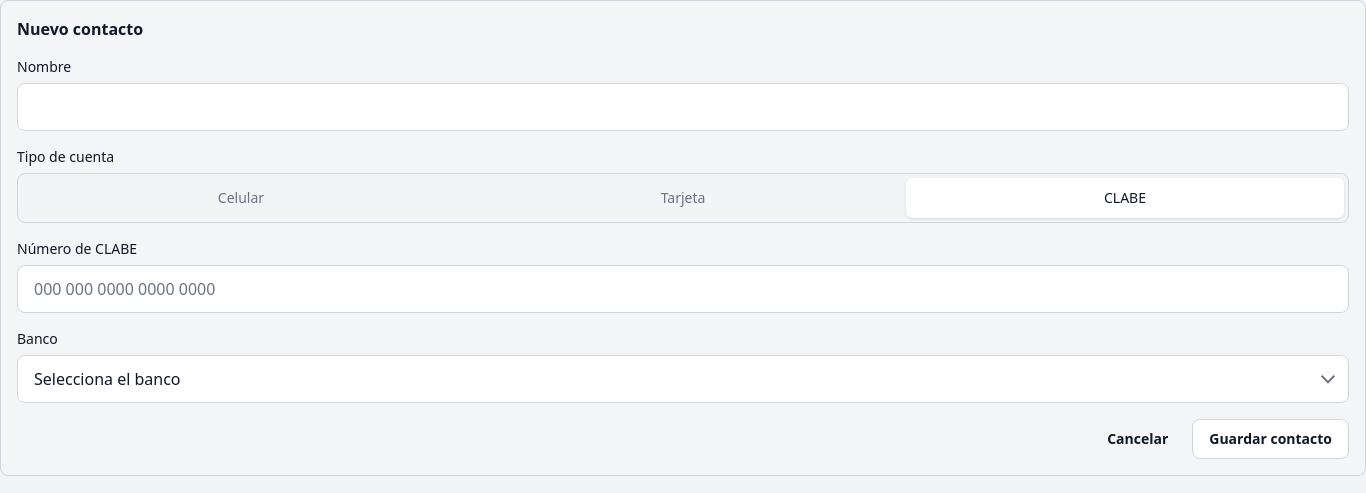
Scenario: NewContactForm › [SPEC-CT-AC04] CLABE usa su máscara
In the field labelled "Número de CLABE": (683, 289) top-left (34, 266), bottom-right (1332, 312), type "012180001234567899"
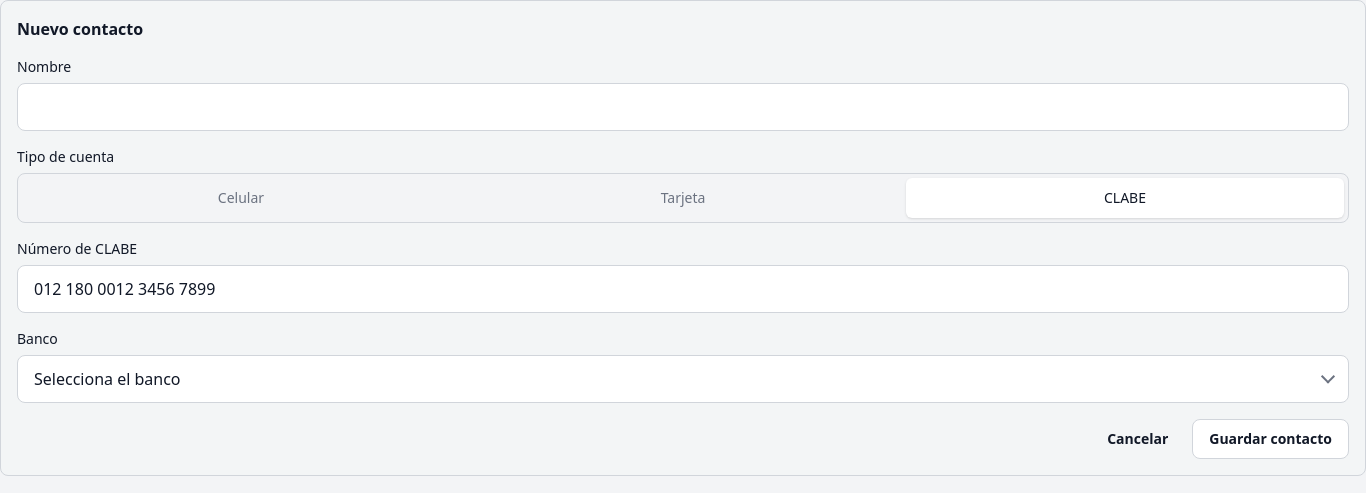
Now the field labelled "Número de CLABE" holds "012 180 0012 3456 7899", box top-left (34, 266), bottom-right (1332, 312)
